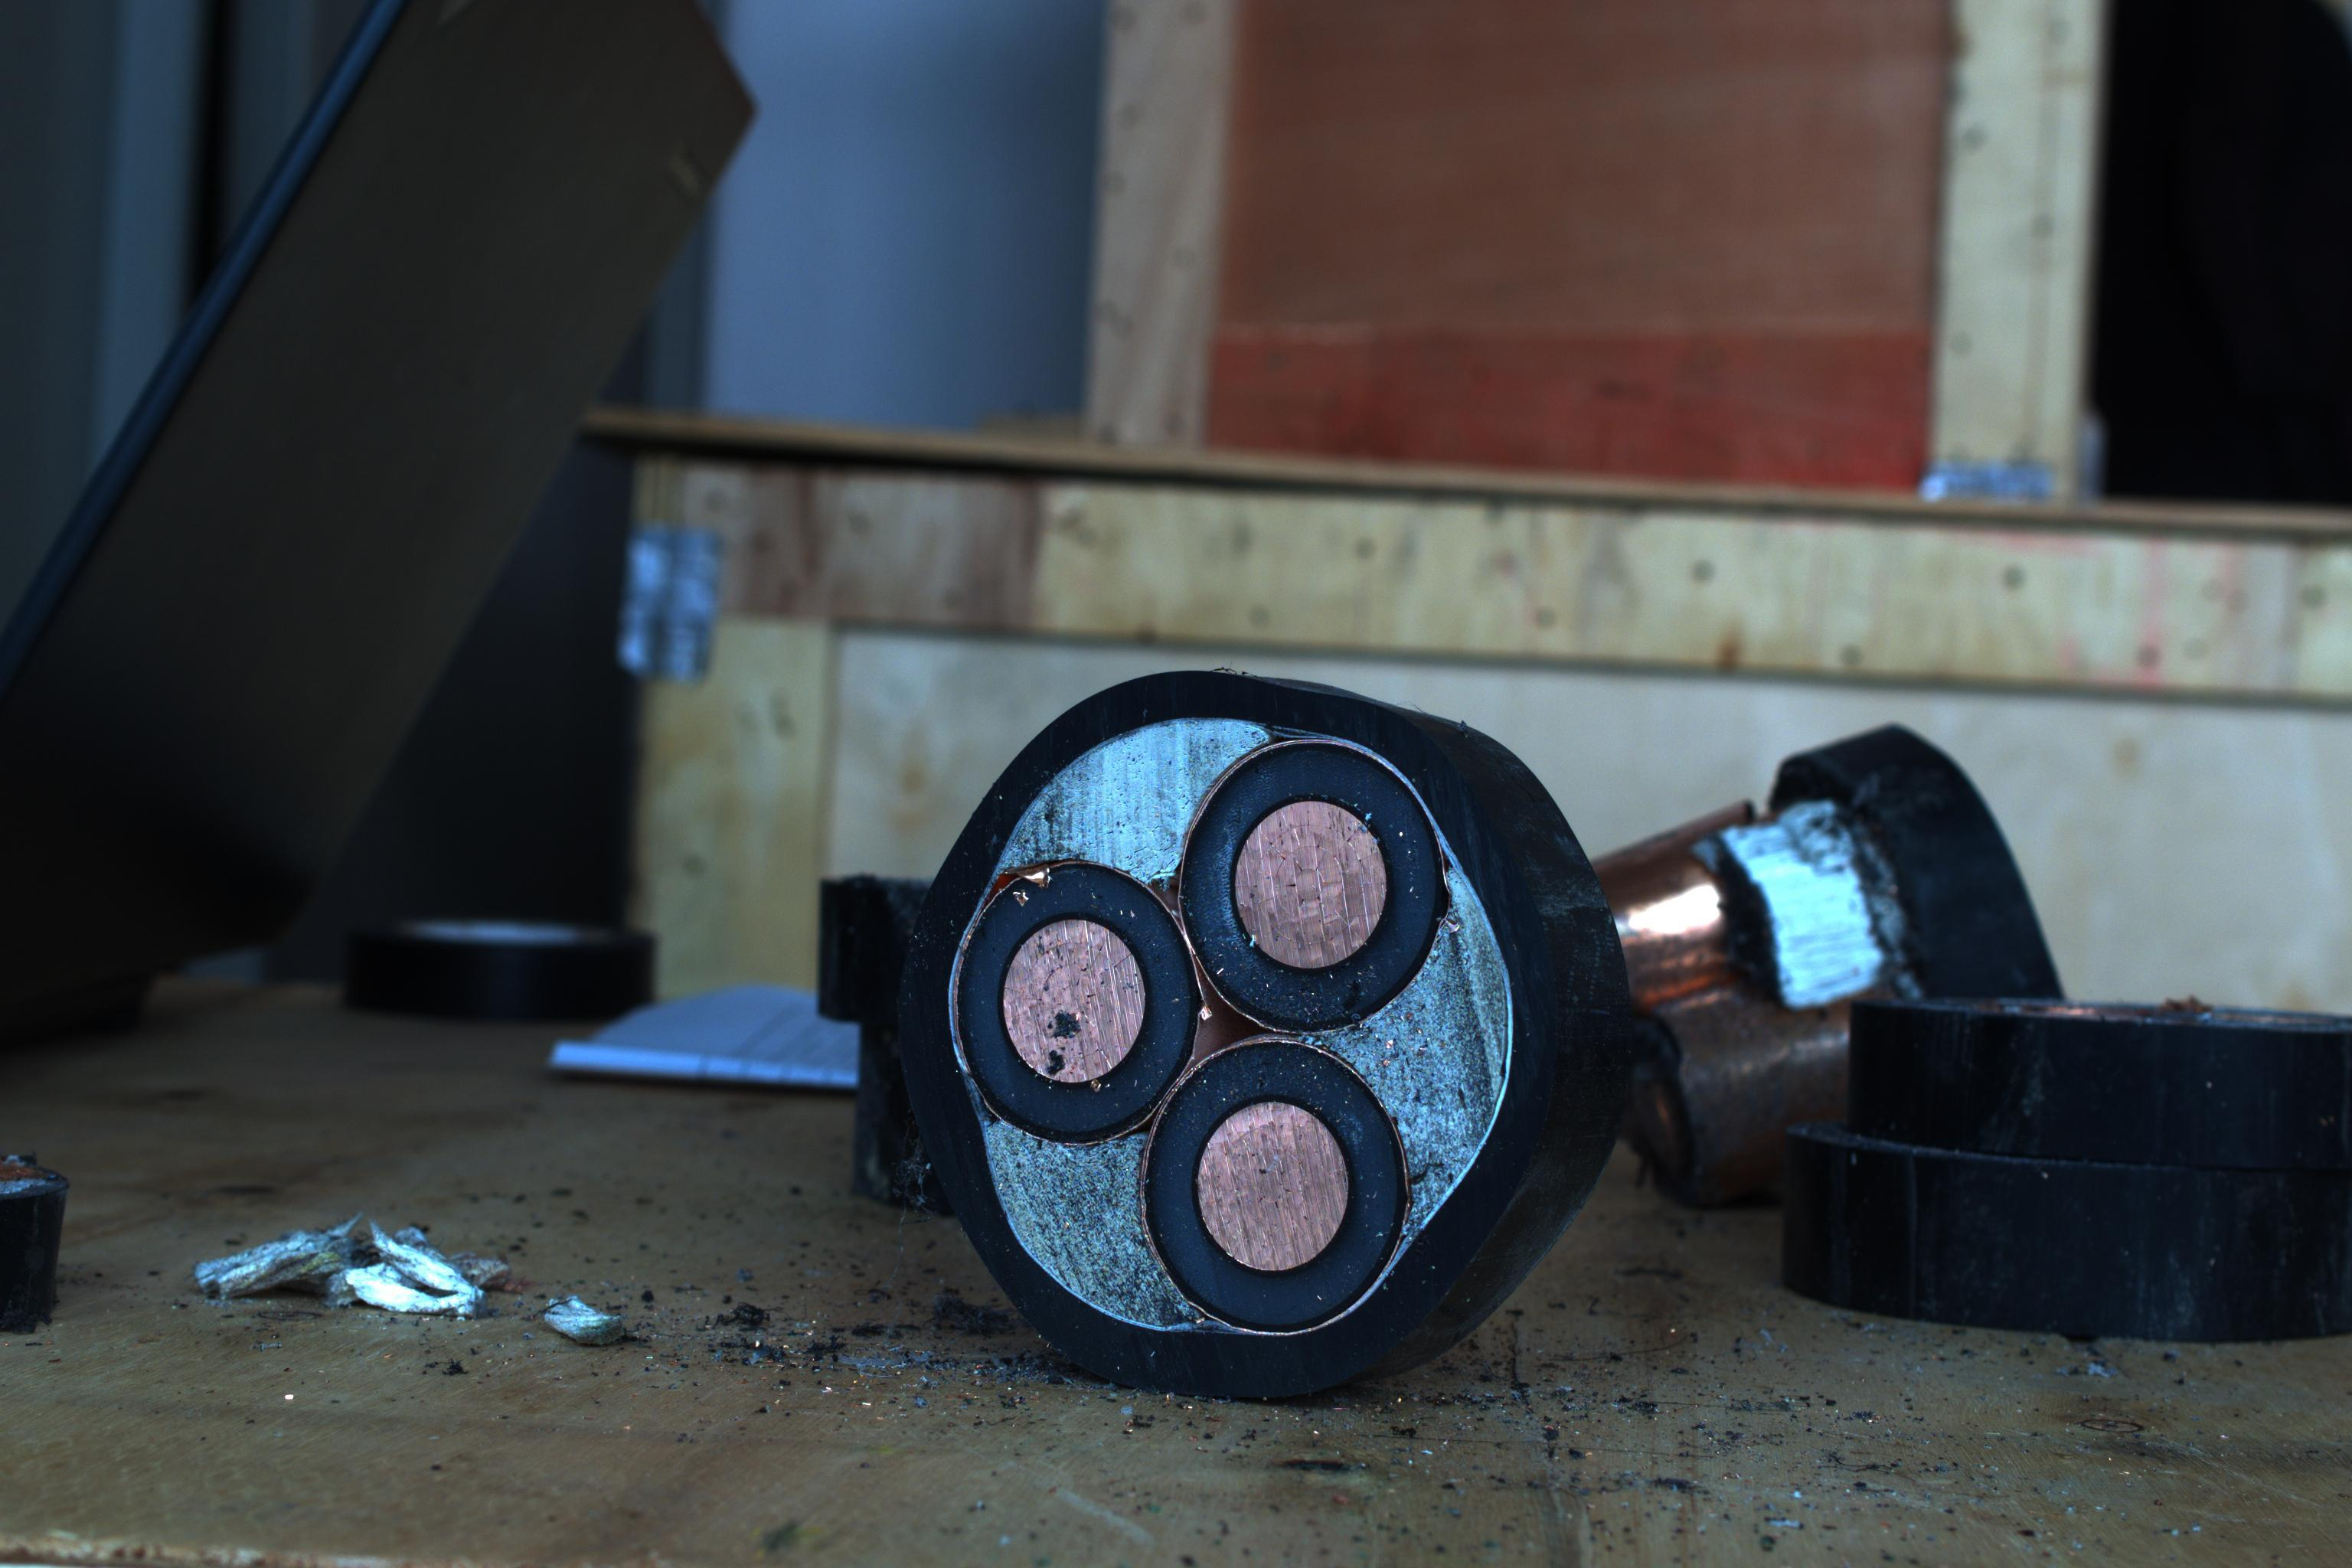ZA_YJV_8.7_10kV_3x240: (920, 688, 1515, 1360)
